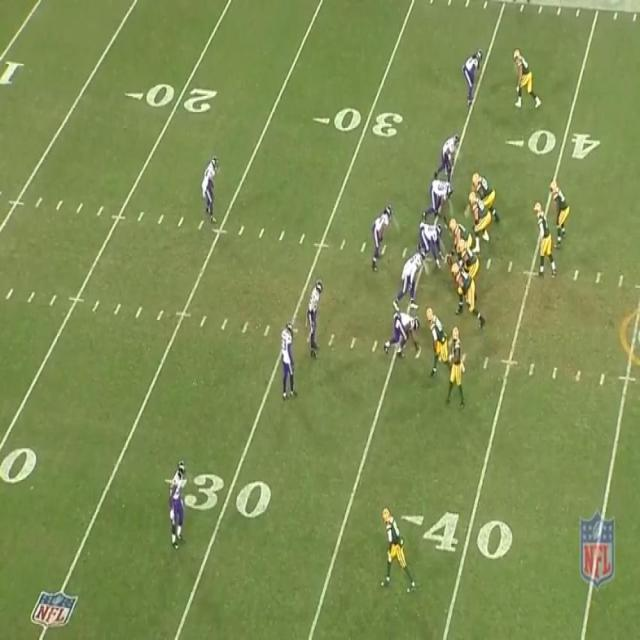center: (447, 218, 473, 266)
db: (167, 462, 188, 542), (279, 322, 294, 393), (464, 47, 480, 104), (308, 281, 320, 355), (202, 155, 216, 216)
lb: (371, 202, 391, 262), (400, 249, 421, 300), (439, 136, 456, 172)
qb: (535, 202, 556, 274)
